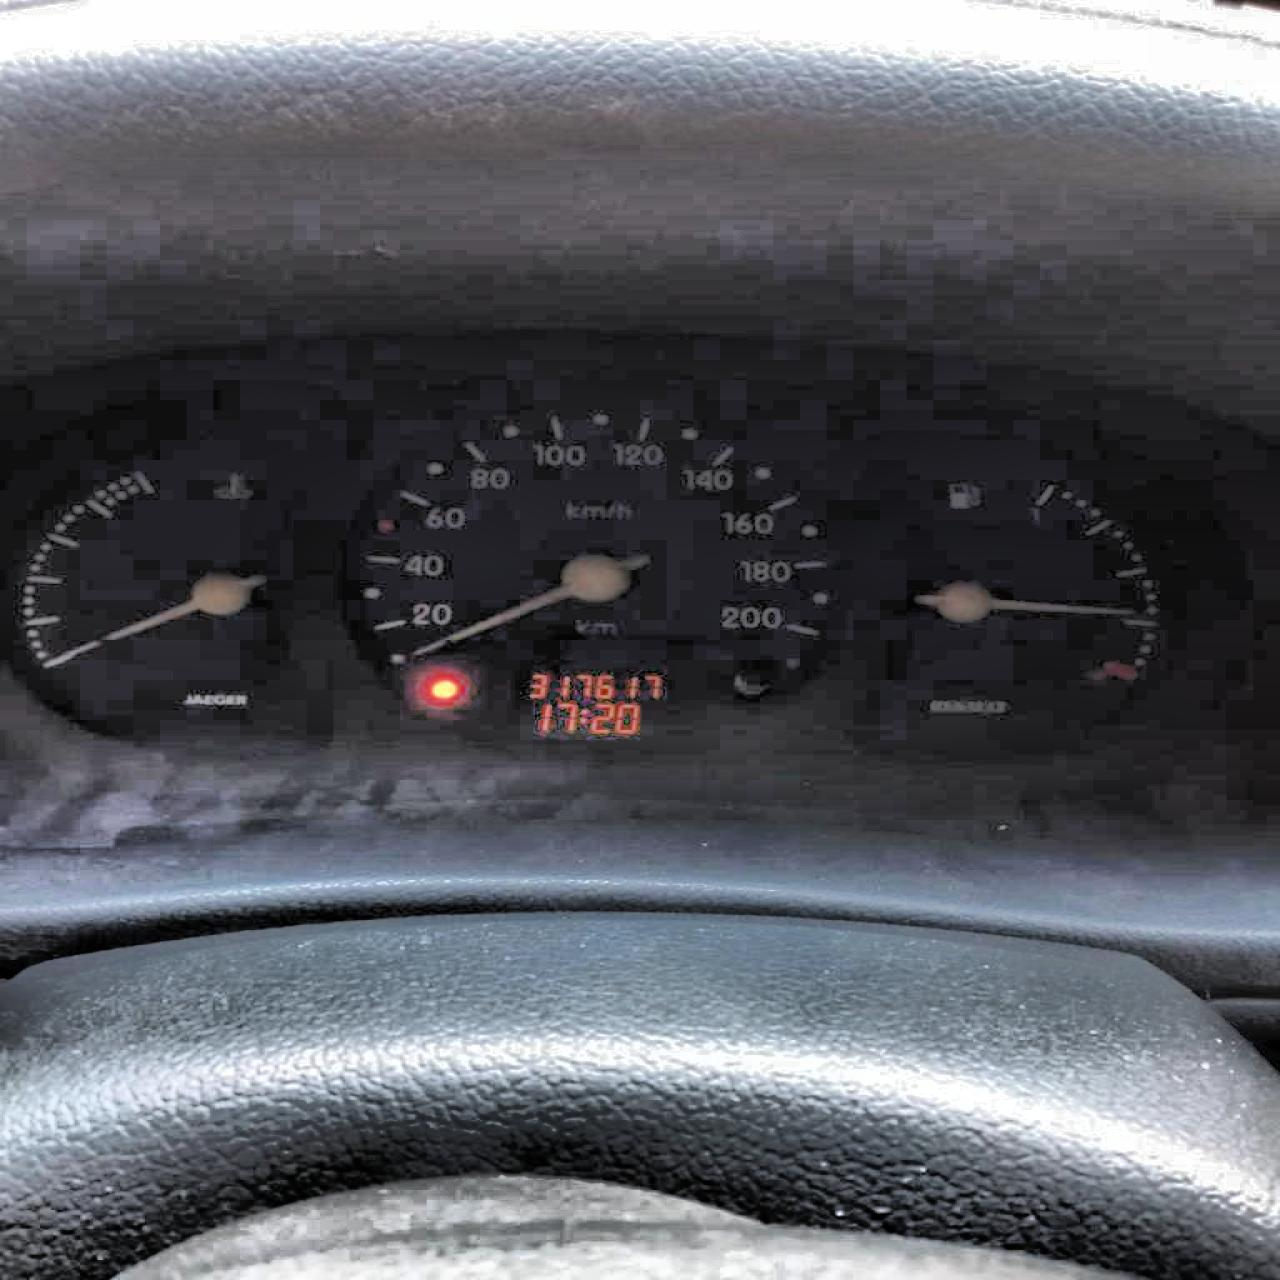0: (614, 702, 639, 734)
1: (540, 702, 552, 731), (627, 675, 639, 699), (560, 674, 568, 697)
2: (590, 702, 613, 734)
3: (529, 673, 545, 697)
6: (594, 674, 613, 699)
7: (557, 701, 576, 730), (644, 674, 660, 699), (576, 673, 592, 697)
X: (579, 707, 588, 723)
odometer: (493, 661, 688, 747)
